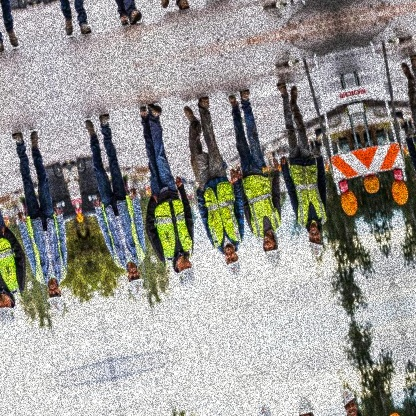vest: (93, 192, 150, 277), (195, 177, 249, 256), (283, 152, 332, 236), (235, 164, 286, 243), (148, 196, 199, 270)
white: (263, 244, 287, 271), (174, 266, 199, 291), (223, 258, 246, 282), (125, 279, 148, 302), (305, 237, 326, 260)
